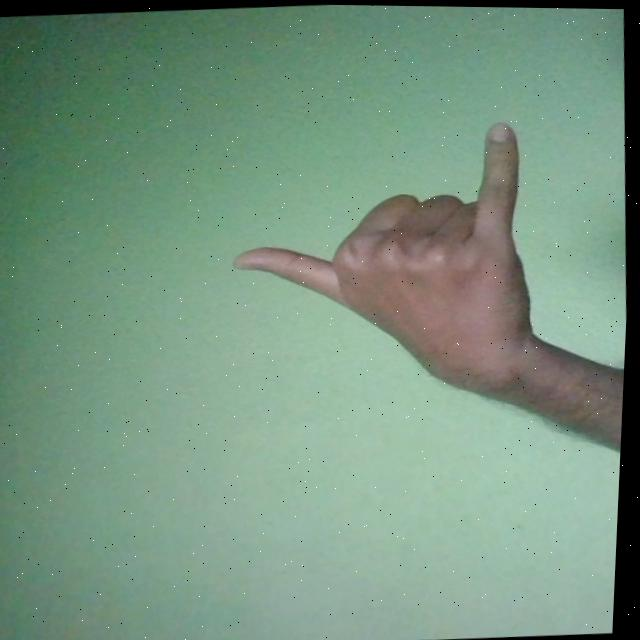Call Me: (222, 117, 549, 417)
